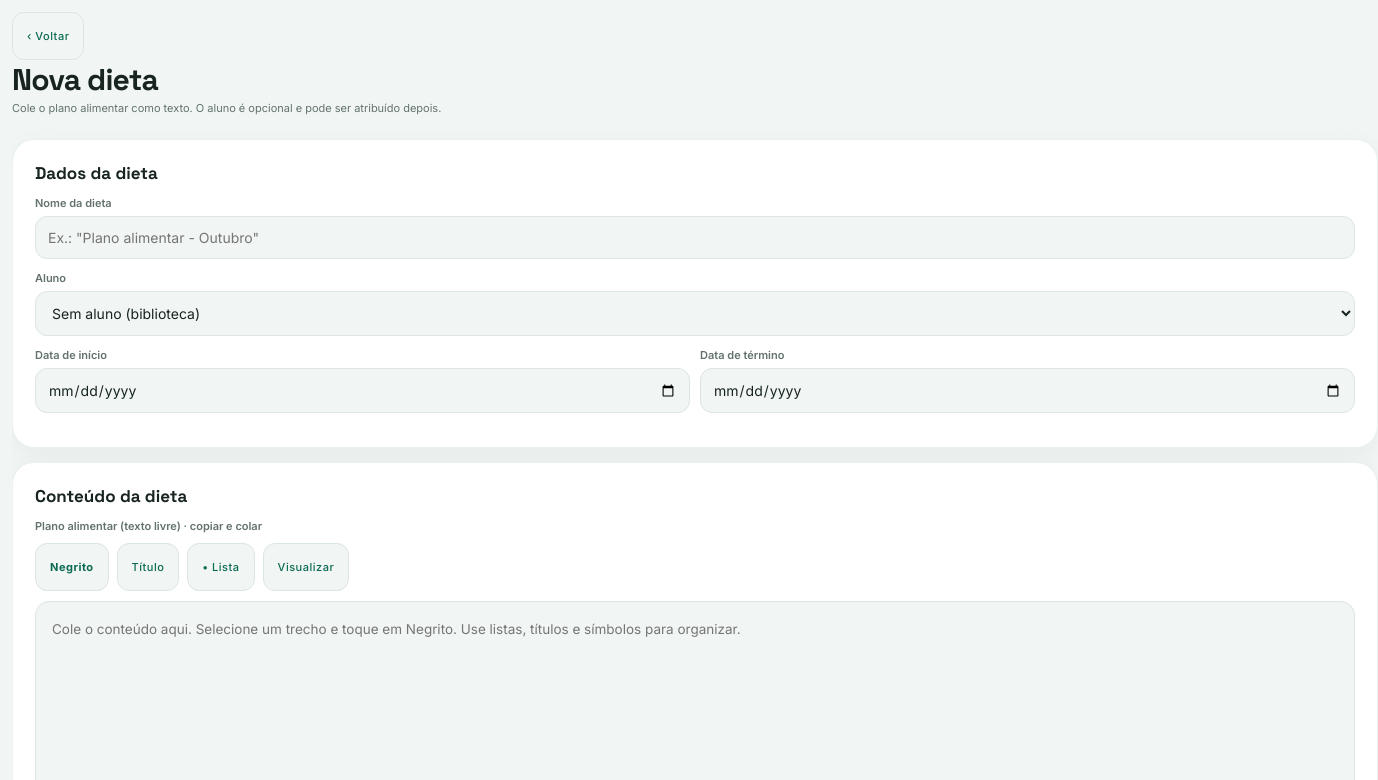
DietForm — acessibilidade › marca erro de intervalo de datas como alert e liga aria-invalid/aria-describedby
In the date field labelled "Data de início": (362, 390) x1=35 y1=368 x2=690 y2=413, type "2026-10-20"
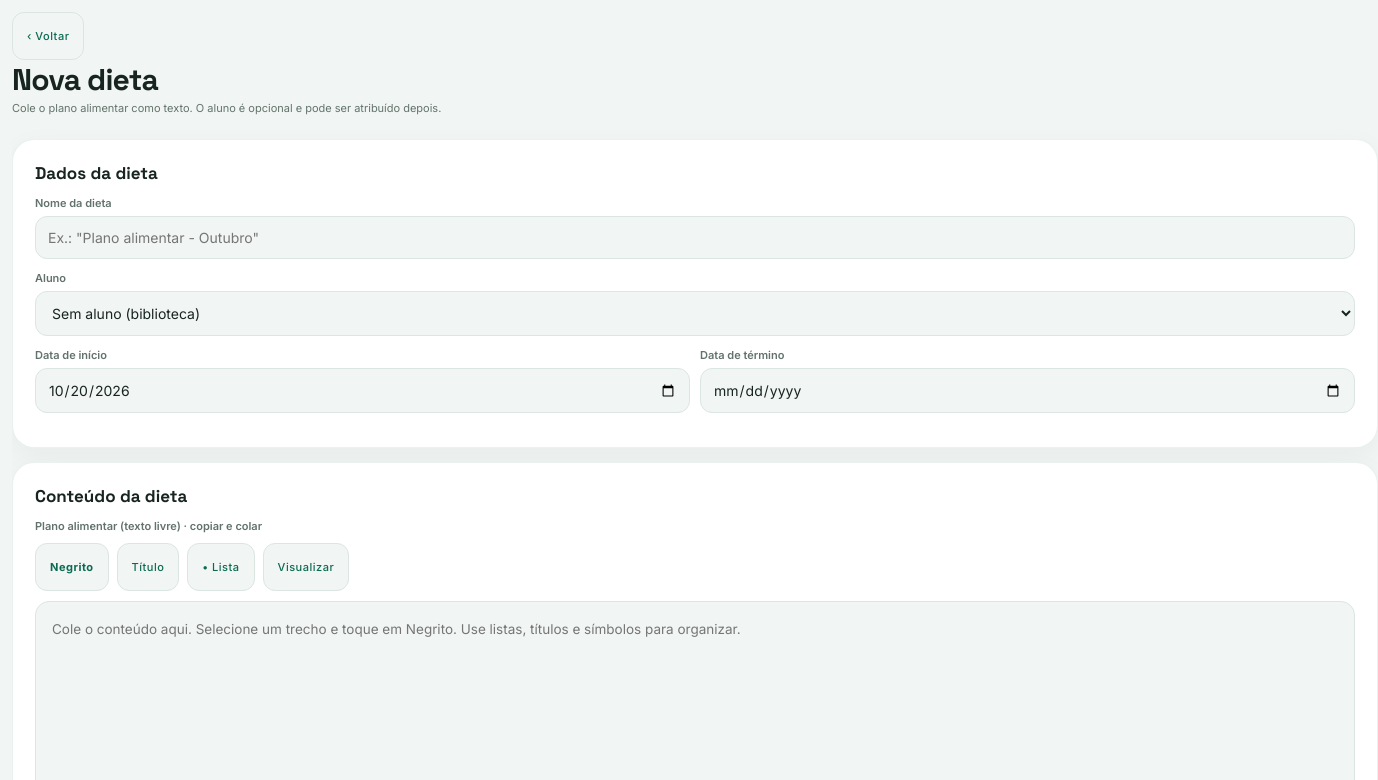
In the date field labelled "Data de término": (1028, 390) x1=700 y1=368 x2=1355 y2=413, type "2026-10-01"
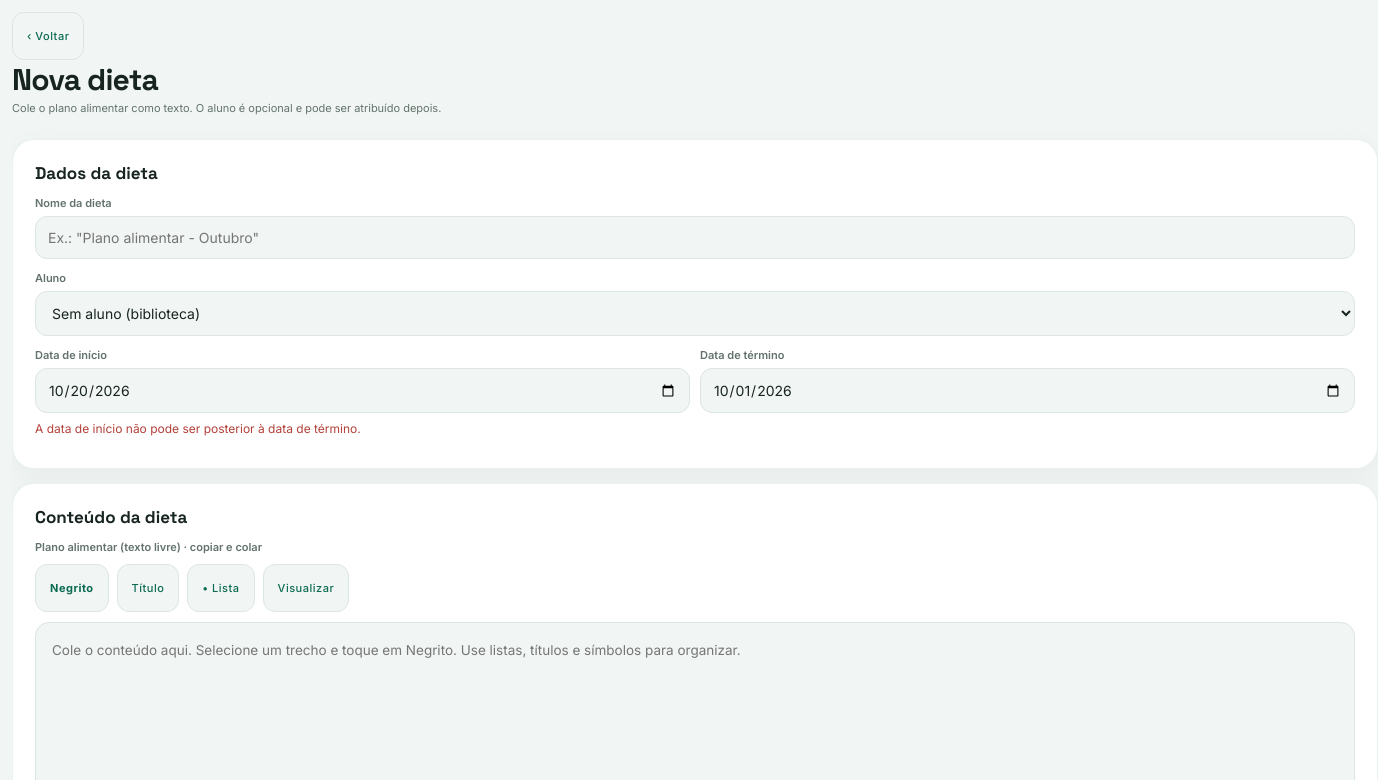
Expected: the message shows "não pode ser posterior", x1=35 y1=421 x2=361 y2=436
